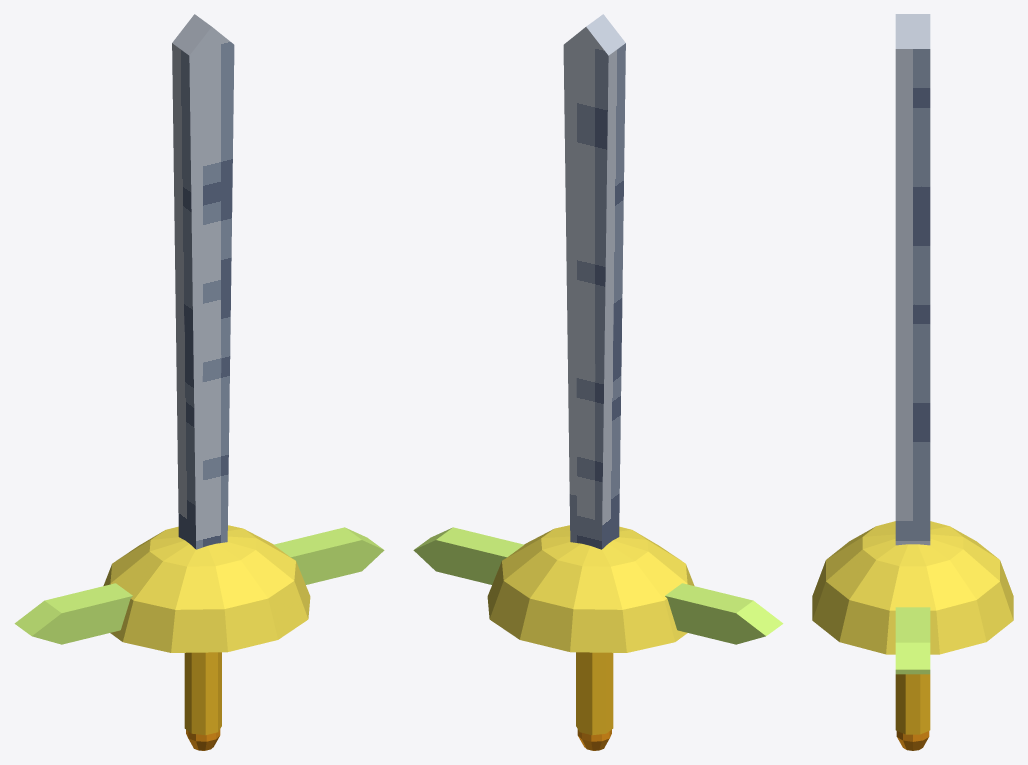
The model's file is LurkersRapier.gltf.
The picture shows the model from 3 angles, left to right: view 1: azimuth 30°, elevation 25°; view 2: azimuth 150°, elevation 25°; view 3: azimuth 270°, elevation 25°; orthographic projection.
Visible parts, largest first — view 1: LurkersRapier; view 2: LurkersRapier; view 3: LurkersRapier.
Boxes of the visible parts, <box> form: LurkersRapier: <box>14,14,384,750</box>; LurkersRapier: <box>413,14,783,750</box>; LurkersRapier: <box>812,14,1013,750</box>.
Size of the model in its own units: 0.2938 by 0.5813 by 0.1437.
Materials: 1 (1 with a texture image).
